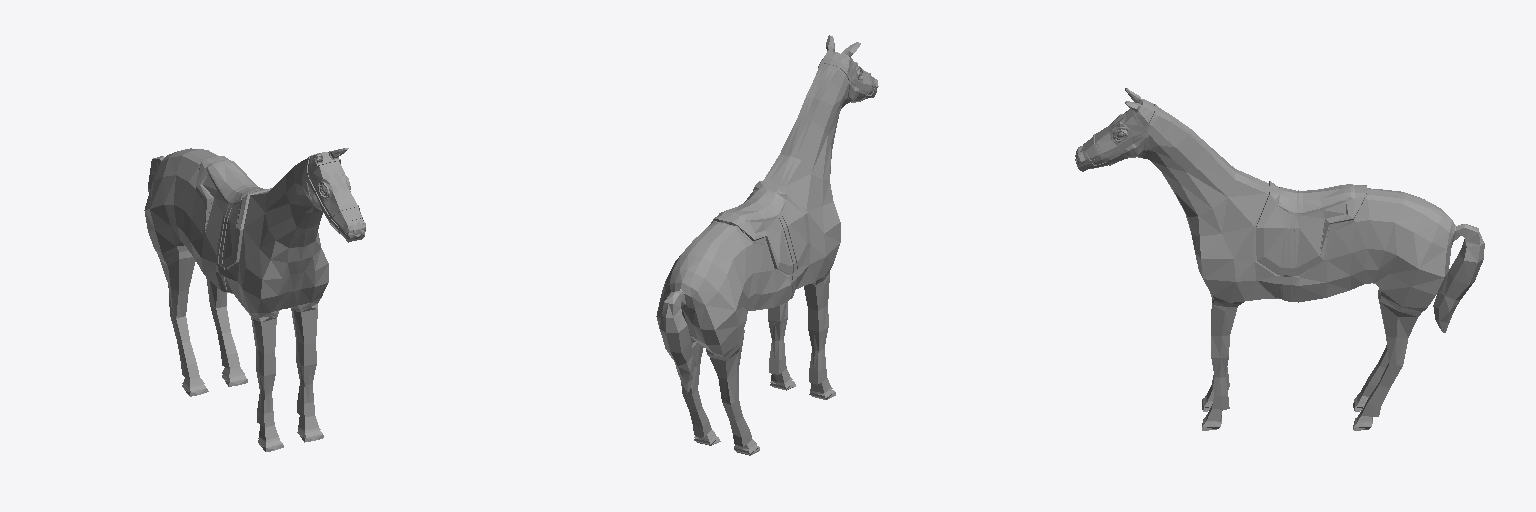
The model's file is hourse.obj.
3 views of the same model, side by side, from view 1: azimuth 30°, elevation 25°; view 2: azimuth 150°, elevation 25°; view 3: azimuth 270°, elevation 25° (orthographic).
Parts seen in each view (by area): view 1: horse_copper_Plane.005; view 2: horse_copper_Plane.005; view 3: horse_copper_Plane.005.
Boxes of the visible parts, x1=… form: horse_copper_Plane.005: x1=144, y1=148, x2=365, y2=451; horse_copper_Plane.005: x1=656, y1=35, x2=878, y2=455; horse_copper_Plane.005: x1=1075, y1=88, x2=1484, y2=430.
Size of the model in its own units: 0.804 by 3.33 by 3.84.